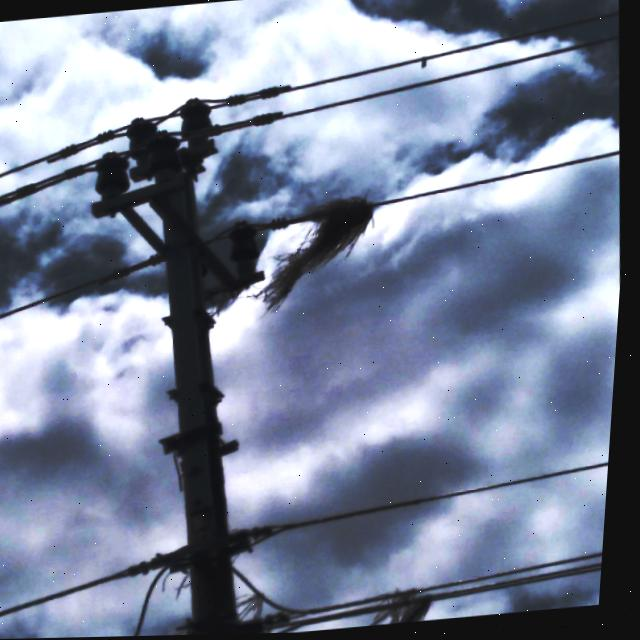obstruction: (259, 197, 379, 317), (375, 587, 447, 626)
poles: (91, 96, 315, 636)
wires: (214, 12, 619, 134), (285, 452, 616, 532), (376, 149, 616, 214), (0, 126, 119, 206), (0, 567, 132, 620), (0, 278, 100, 324), (260, 211, 314, 234)
